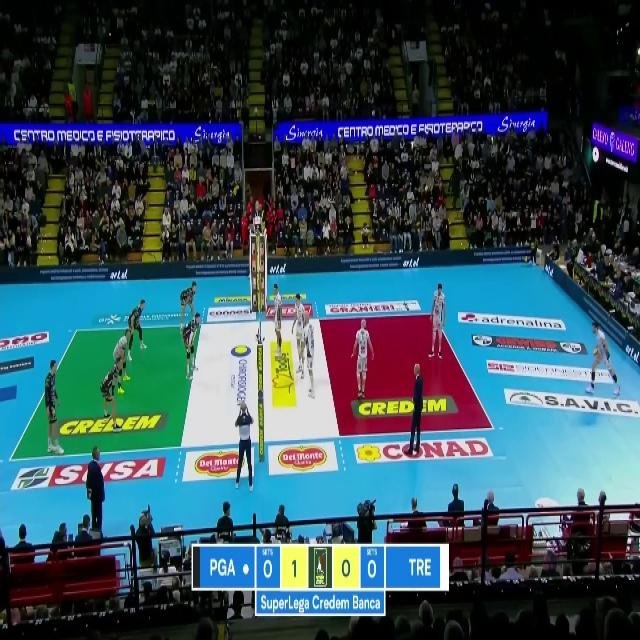volleyball court: (11, 312, 492, 464)
